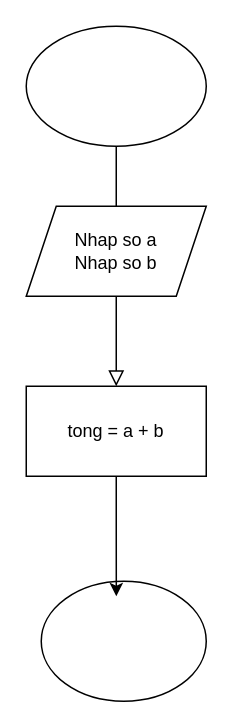
Some shapes in this 233 by 728 pixel diagram are drawn without their labels. The centre of each missing label's shape, as x and y in pixels:
"End" belongs at (x=123, y=640).
"Start" belongs at (x=115, y=85).
